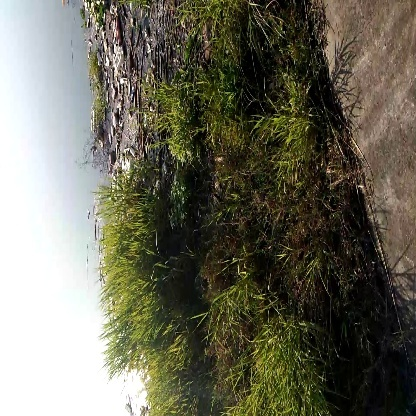grass: (105, 231, 161, 353)
